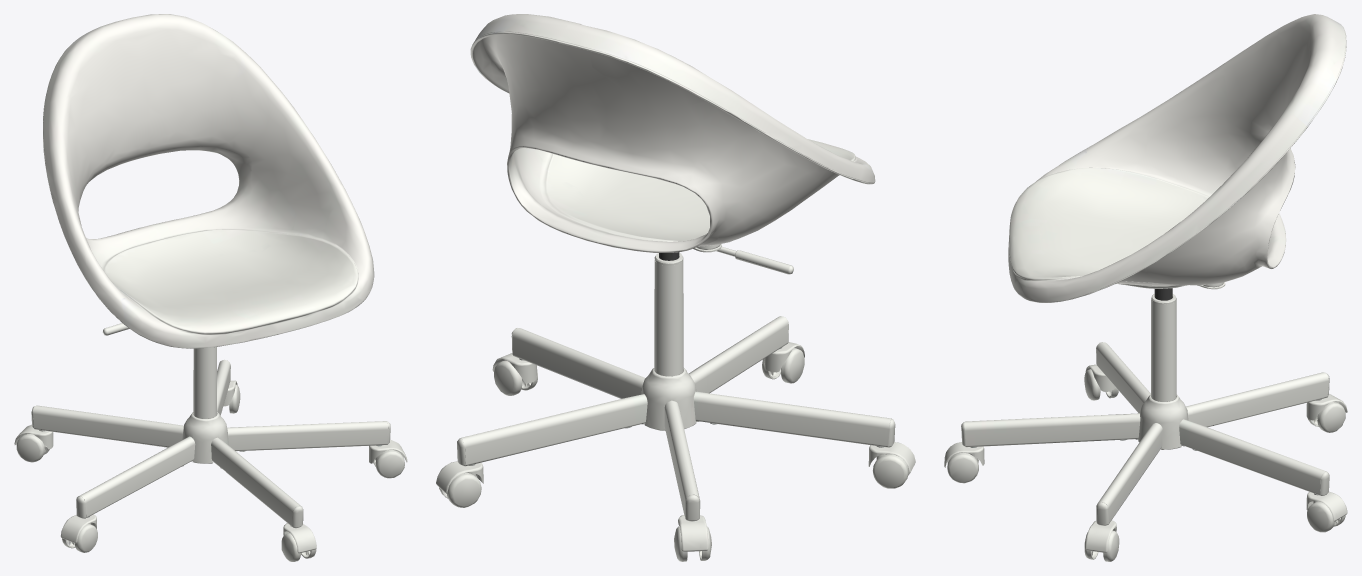
Rendered from LB-BR-CHAIR-01.glb.
The picture shows the model from 3 angles, left to right: view 1: azimuth 30°, elevation 25°; view 2: azimuth 150°, elevation 25°; view 3: azimuth 270°, elevation 25°; orthographic projection. The views are drawn at different scales.
Visible parts, largest first — view 1: 19445469; view 2: 19445469; view 3: 19445469.
Boxes of the visible parts, bbox=[...] form: 19445469: bbox=[14, 14, 407, 561]; 19445469: bbox=[436, 14, 915, 561]; 19445469: bbox=[944, 14, 1347, 561].
Size of the model in its own units: 0.6731 by 0.7797 by 0.6411.
Materials: 1 (1 with a texture image).
